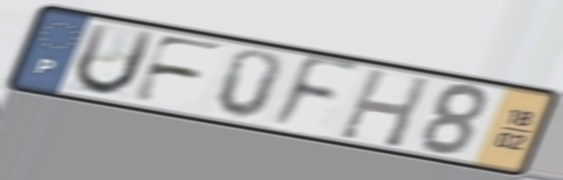0: (212, 48, 287, 121)
8: (415, 81, 492, 159)
F: (265, 52, 365, 133), (126, 31, 230, 106)
H: (334, 65, 435, 151)
U: (70, 20, 160, 98)
